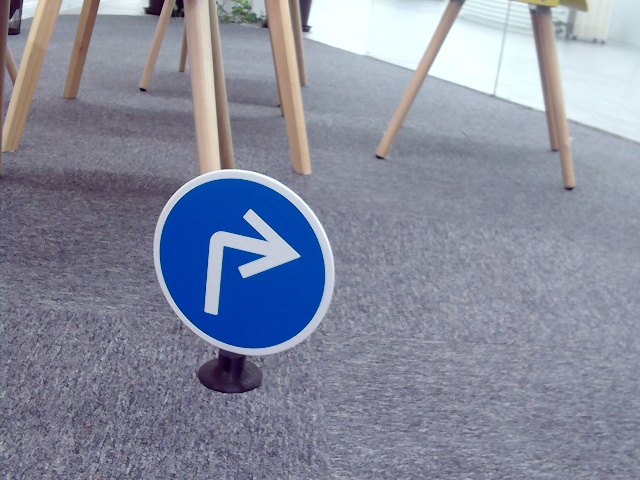turn_right: (196, 198, 295, 323)
